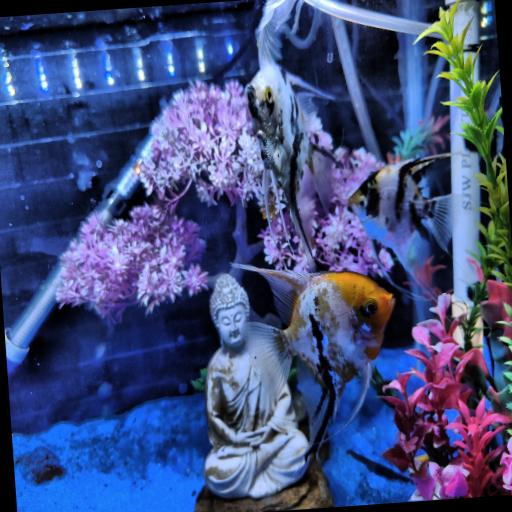Fish: (233, 264, 394, 455), (245, 63, 335, 271), (349, 155, 452, 297), (257, 0, 303, 67)
